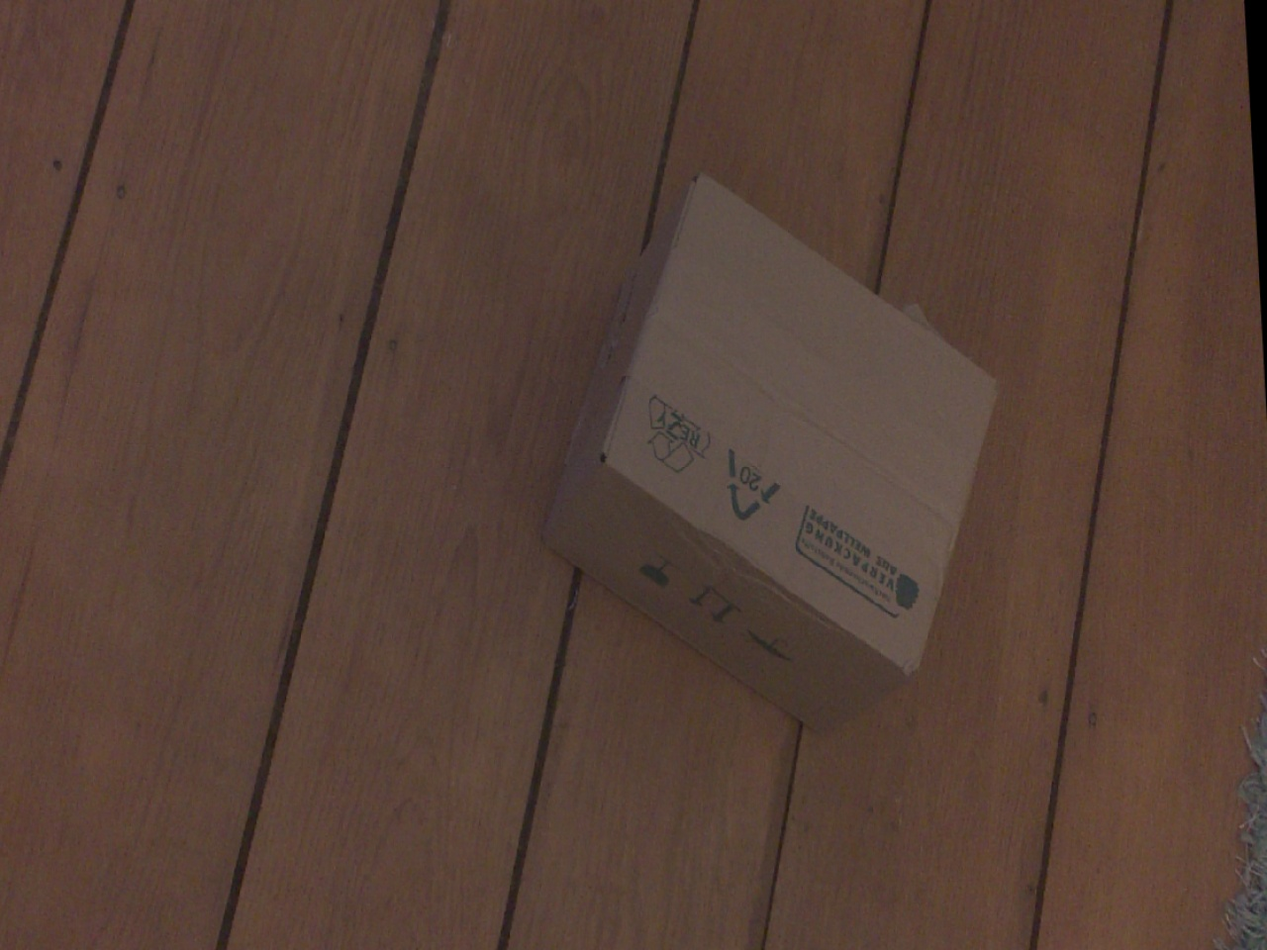good-parcel: (531, 157, 1030, 749)
